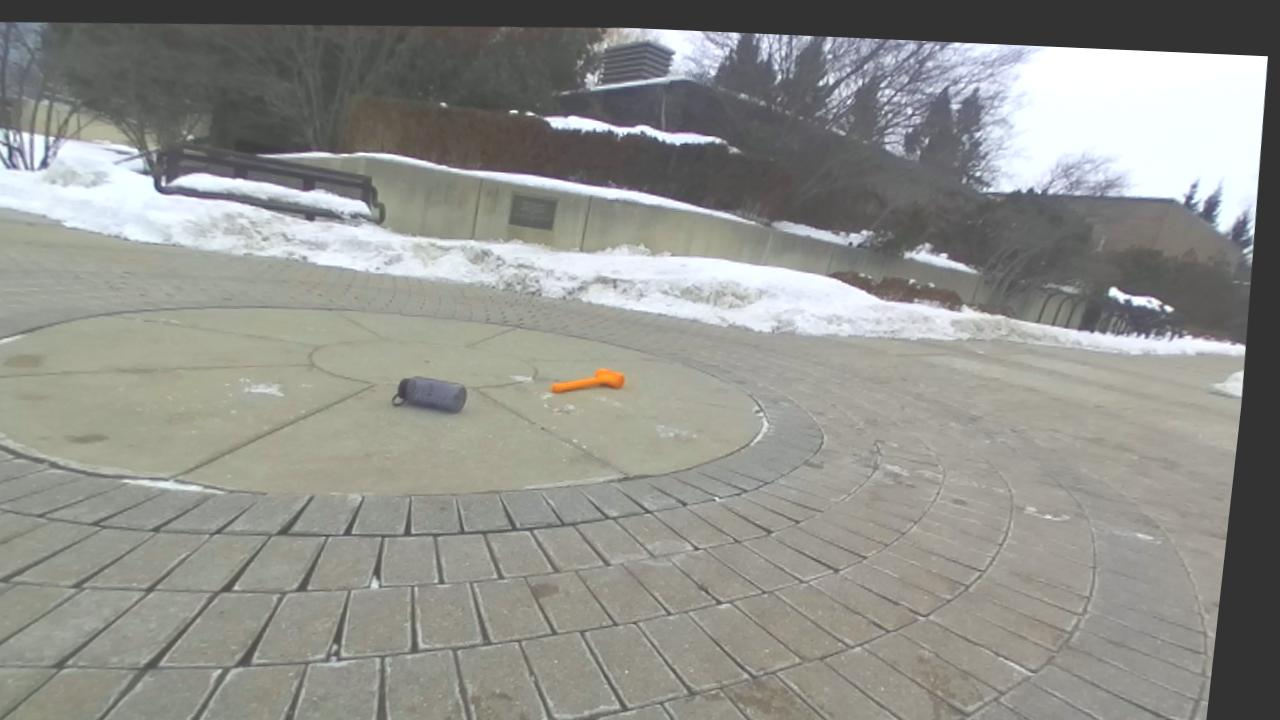bottle: (392, 377, 466, 412)
mallet: (552, 368, 625, 392)
